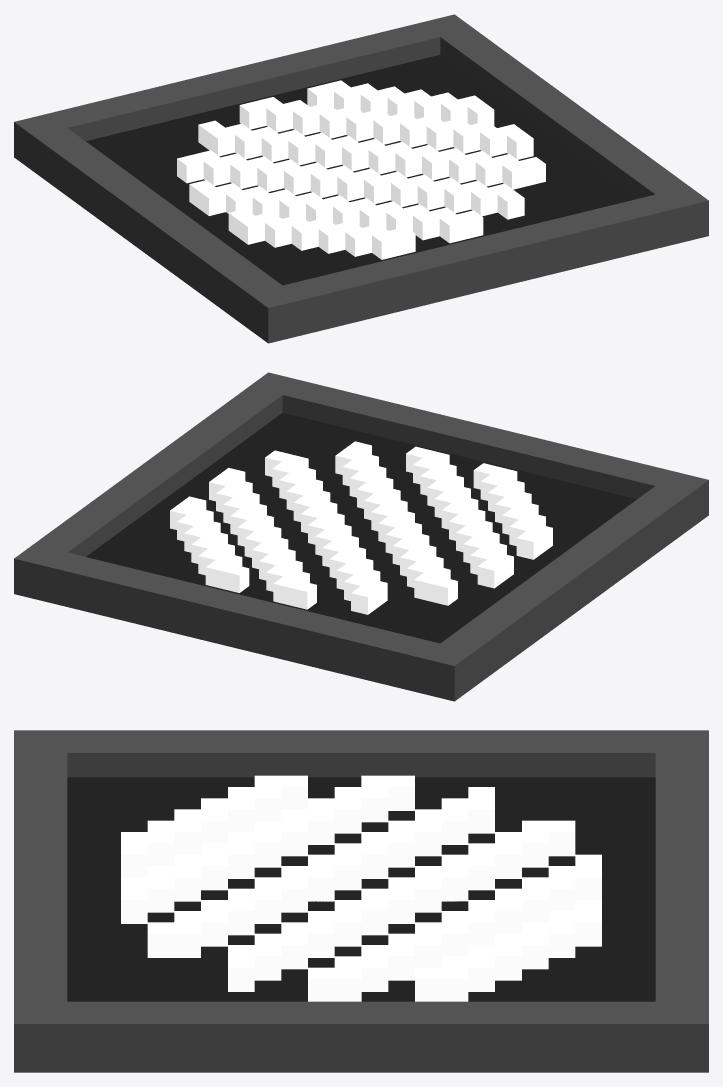
Rendered from trap_GRILL_GREY.glb.
3 renders of one model, top to bottom at view 1: azimuth 30°, elevation 25°; view 2: azimuth 150°, elevation 25°; view 3: azimuth 270°, elevation 25°, orthographic. The views are drawn at different scales.
Visible parts, largest first — view 1: item_TRAP_GRILL_GREY; view 2: item_TRAP_GRILL_GREY; view 3: item_TRAP_GRILL_GREY.
Boxes of the visible parts, x1,y1,x2,y2 form: item_TRAP_GRILL_GREY: (14,14,708,343); item_TRAP_GRILL_GREY: (14,372,708,701); item_TRAP_GRILL_GREY: (14,730,708,1072).
Bounding box in the file's own units: 0.5909 × 0.0455 × 0.5909.
1 material, 1 textured.
